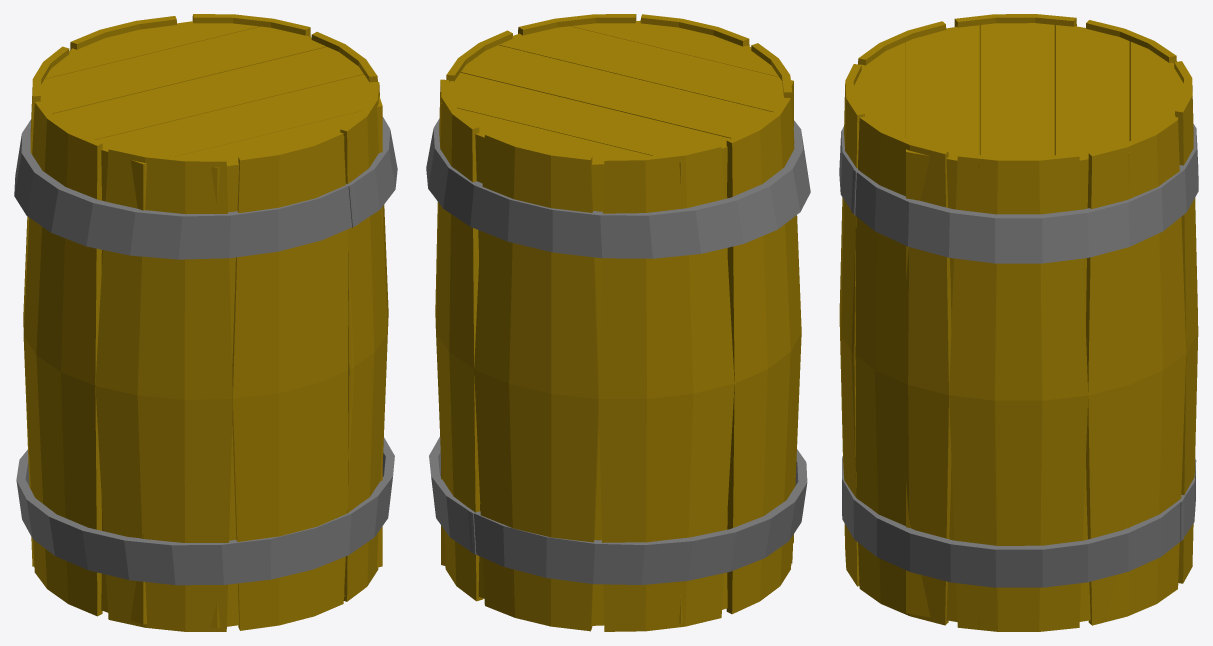
Rendered from barrel.glb.
3 renders of one model, left to right at view 1: azimuth 30°, elevation 25°; view 2: azimuth 150°, elevation 25°; view 3: azimuth 270°, elevation 25°, orthographic.
Parts seen in each view (by area): view 1: Barrel; view 2: Barrel; view 3: Barrel.
Boxes of the visible parts, x1=… form: Barrel: x1=14, y1=14, x2=397, y2=631; Barrel: x1=426, y1=14, x2=810, y2=631; Barrel: x1=839, y1=14, x2=1198, y2=631.
Bounding box in the file's own units: 0.4101 × 0.5457 × 0.3772.
